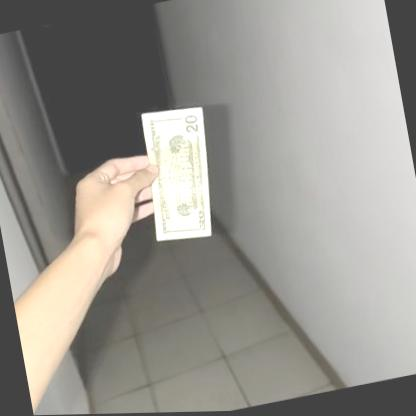twenty-back: (134, 101, 226, 249)
